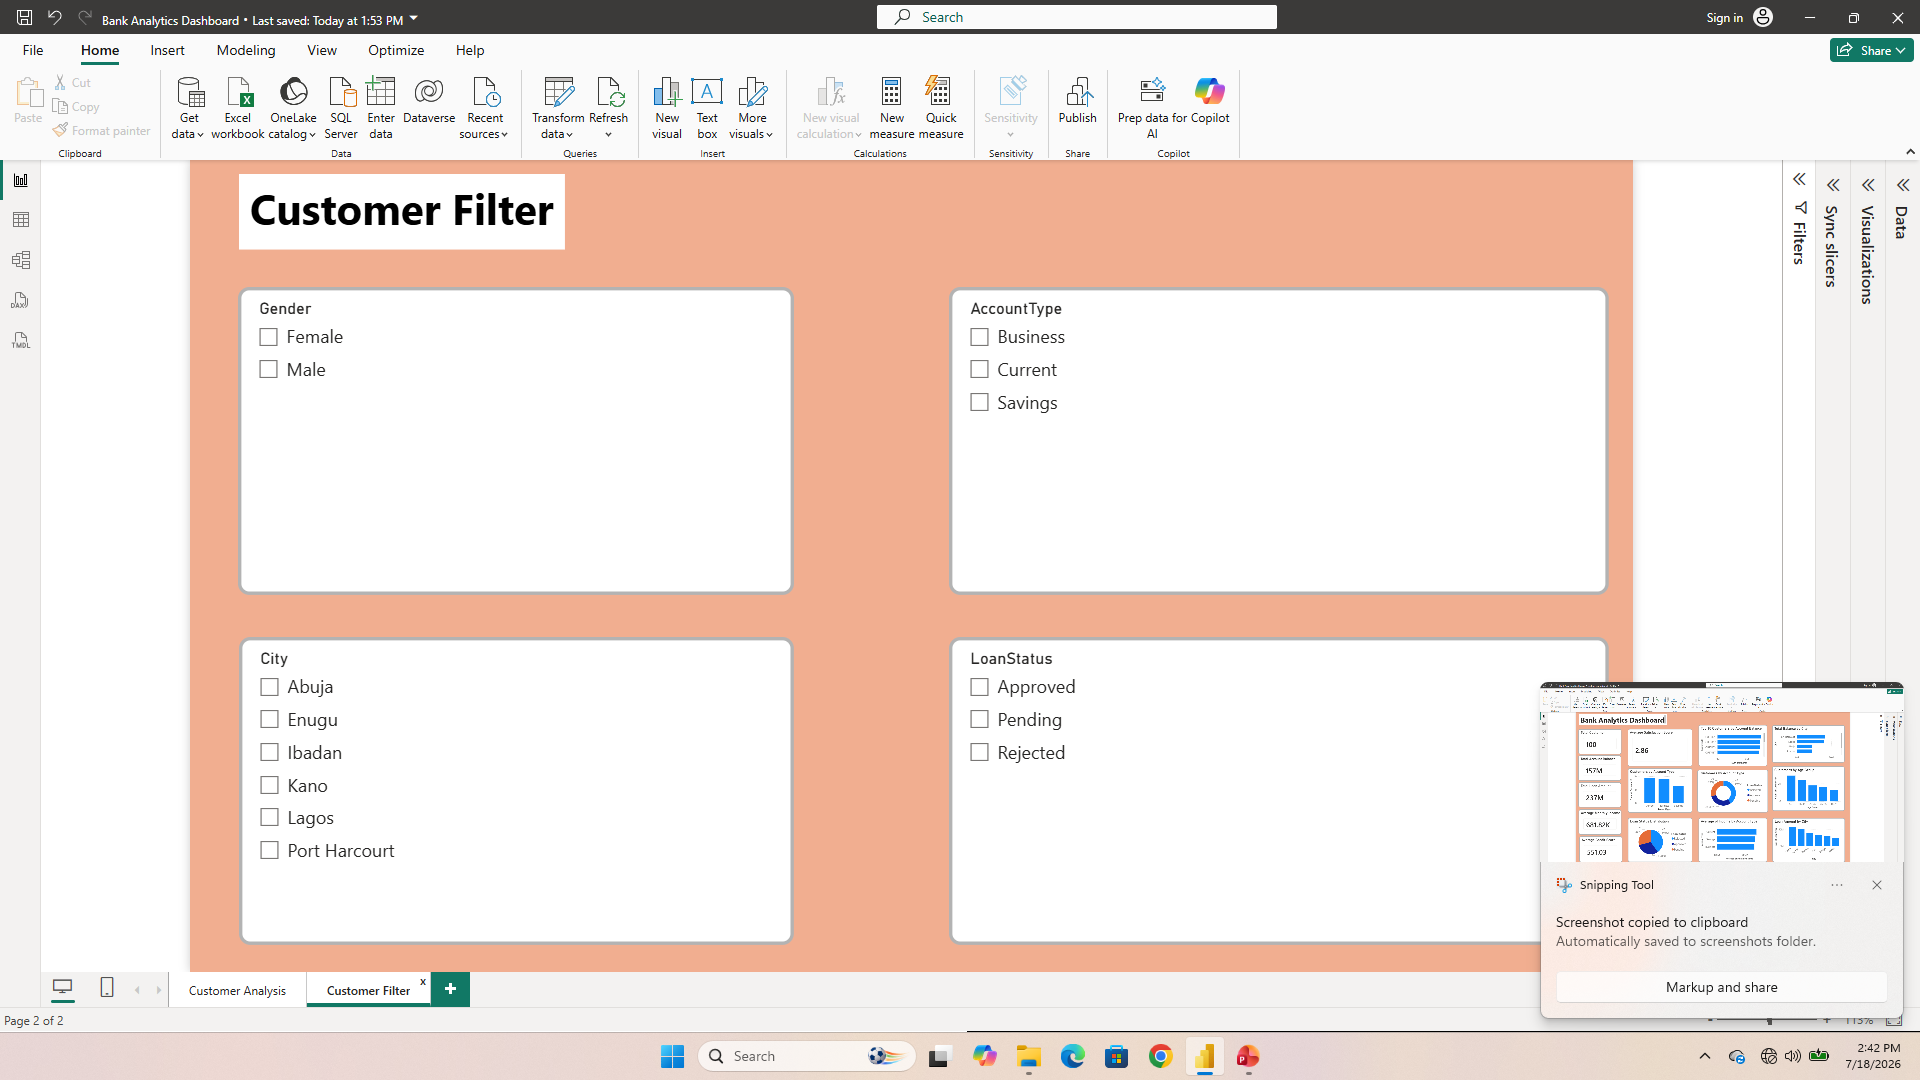

What the dashboard file says about the page in this screenshot:
{"tool":"powerbi","page":{"name":"Customer Filter","canvas":[1280,720],"ordinal":1},"visuals":[{"type":"slicer","fields":{"Values":["Bank_Analytics.Gender"]},"box":[42.2,113,493.1,273.1],"z":0},{"type":"slicer","fields":{"Values":["Bank_Analytics.AccountType"]},"box":[672.9,113,585.5,273.1],"z":1000},{"type":"slicer","fields":{"Values":["Bank_Analytics.City"]},"box":[43.2,423.4,492.2,273.1],"z":2000},{"type":"slicer","fields":{"Values":["Bank_Analytics.LoanStatus"]},"box":[672.9,423.4,585.5,273.1],"z":3000},{"type":"textbox","box":[43.2,12.8,288.8,66.8],"z":4000}]}

Visuals, with their boxes on the page's 1280x720 design canvas (x1, y1, x2, y2). These are canvas units, not pixel positions in the 1920x1080 screenshot, which may show the page scaled, cropped or inside an application window:
slicer - Bank_Analytics.Gender: [42,113,535,386]
slicer - Bank_Analytics.AccountType: [673,113,1258,386]
slicer - Bank_Analytics.City: [43,423,535,696]
slicer - Bank_Analytics.LoanStatus: [673,423,1258,696]
textbox: [43,13,332,80]
